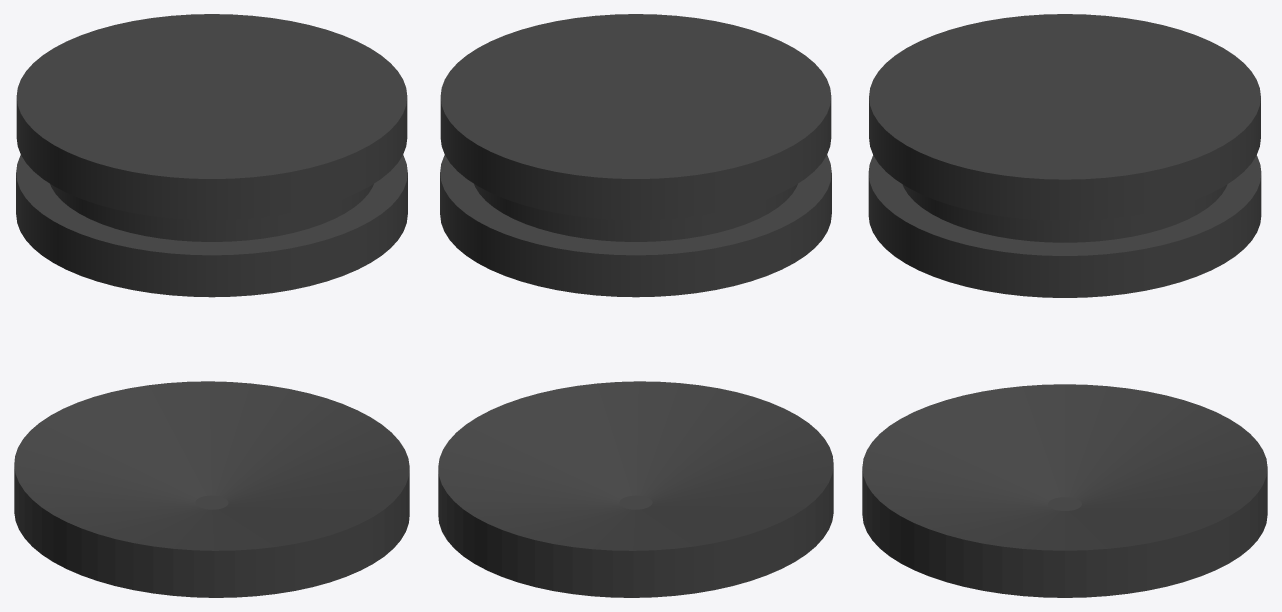
Rendered from DisplayPillar.fbx.
3 views of the same model, side by side, from view 1: azimuth 30°, elevation 25°; view 2: azimuth 150°, elevation 25°; view 3: azimuth 270°, elevation 25° (orthographic).
Visible parts, largest first — view 1: polySurface24; view 2: polySurface24; view 3: polySurface24.
Boxes of the visible parts, x1,y1,x2,y2 form: polySurface24: (14, 14, 409, 597); polySurface24: (438, 14, 833, 597); polySurface24: (862, 14, 1267, 597).
Size of the model in its own units: 0.9744 by 1.14 by 1.
1 material, 1 textured.
